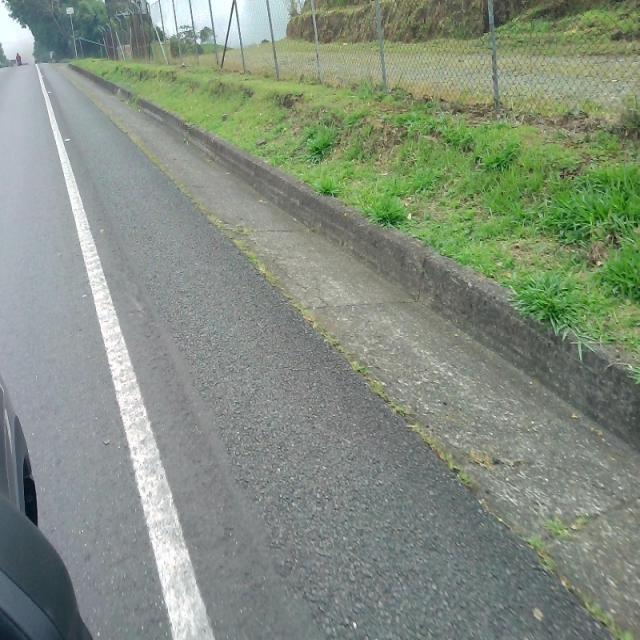DITCH: (36, 59, 638, 638)
